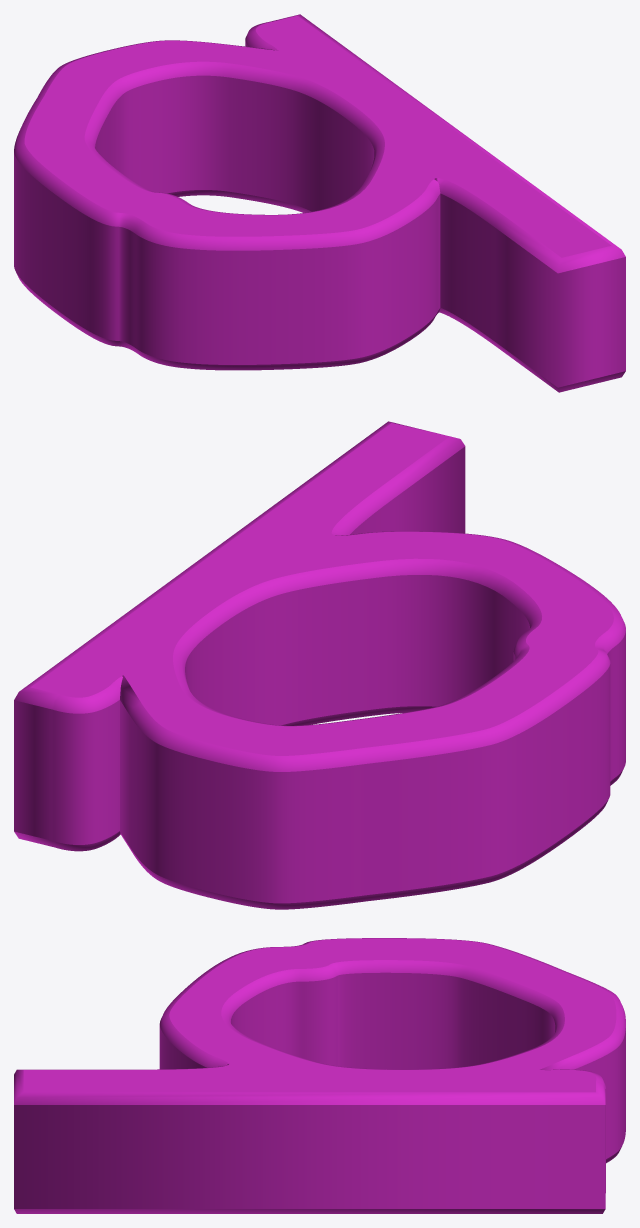
Rendered from Blocky_Letter_b.fbx.
3 views of the same model, one above another, from view 1: azimuth 30°, elevation 25°; view 2: azimuth 150°, elevation 25°; view 3: azimuth 270°, elevation 25° (orthographic). The views are drawn at different scales.
Parts seen in each view (by area): view 1: BlockyLetter_b; view 2: BlockyLetter_b; view 3: BlockyLetter_b.
Boxes of the visible parts, bbox=[...] form: BlockyLetter_b: bbox=[14, 14, 625, 392]; BlockyLetter_b: bbox=[14, 421, 625, 909]; BlockyLetter_b: bbox=[14, 938, 625, 1213].
Bounding box in the file's own units: 0.4002 × 0.14 × 0.6393.
